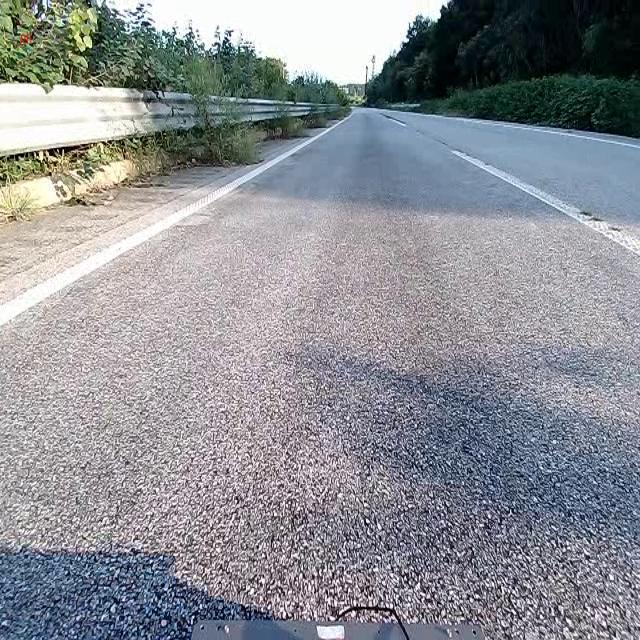Lane: (0, 110, 358, 340), (0, 118, 347, 330), (377, 98, 640, 298), (451, 149, 639, 256), (448, 117, 639, 148), (383, 115, 406, 125)
